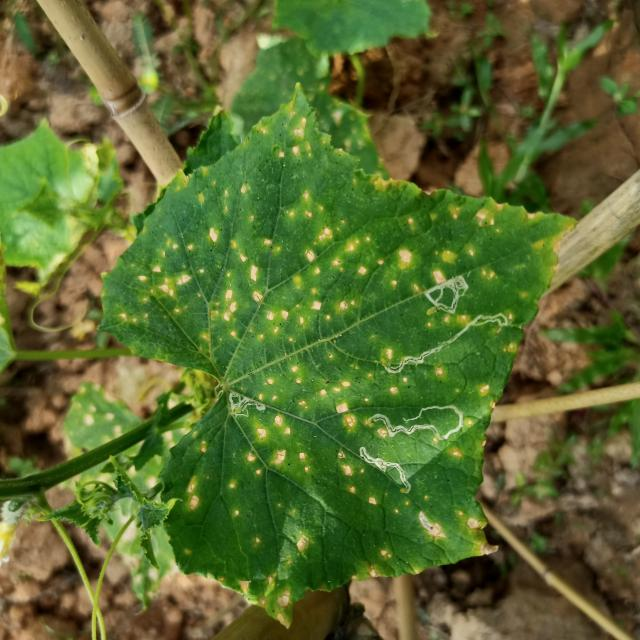disease_cucumber: (121, 114, 529, 353), (196, 413, 314, 512), (258, 365, 360, 447), (235, 533, 314, 625), (394, 493, 500, 558), (336, 452, 379, 511), (379, 366, 452, 396), (347, 547, 397, 579), (182, 471, 202, 516)
